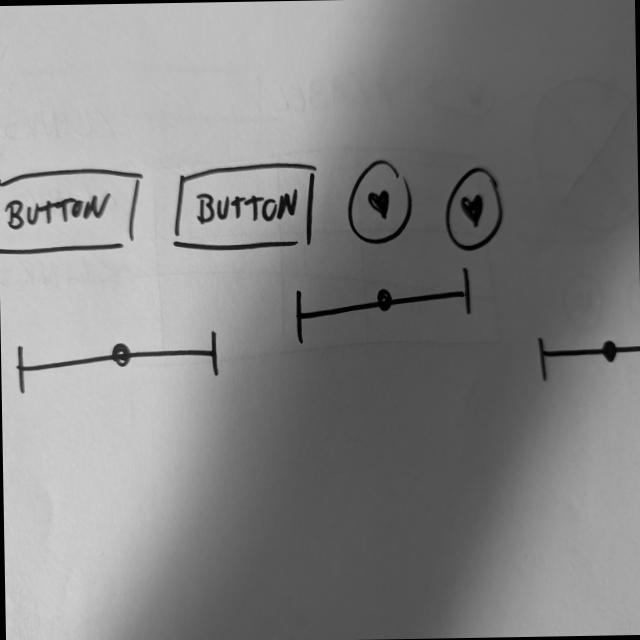button: (168, 157, 320, 253), (0, 166, 146, 257)
icon-button: (343, 156, 416, 248), (440, 163, 508, 251)
slider: (288, 262, 476, 346), (15, 323, 222, 393), (532, 331, 640, 384)
